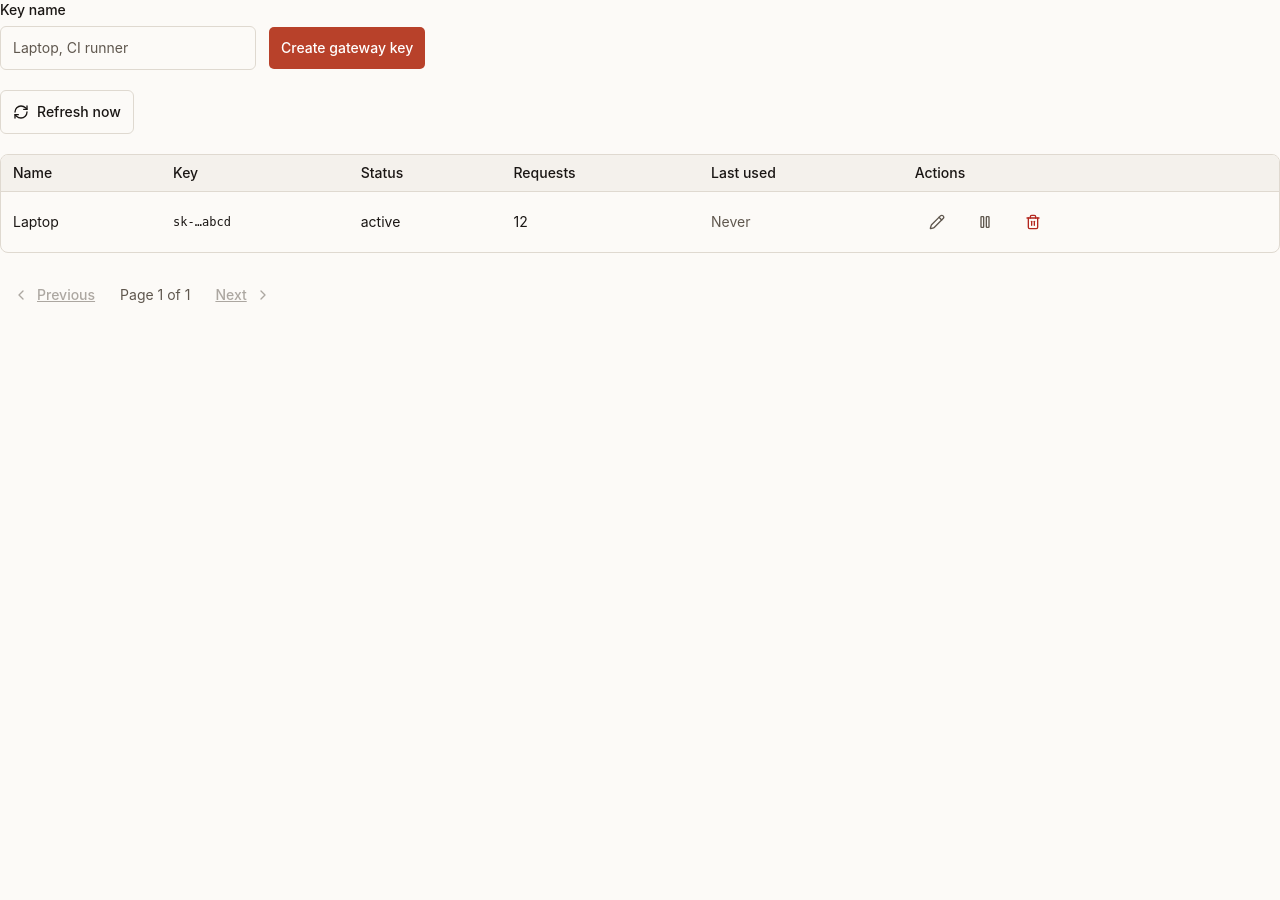
Endpoint & Key control states › gives the dialog commit a label pair rather than a raw white
Step 1. Click the button named "Delete" → {"x": 1033, "y": 222}, box [1011,200,1055,244]
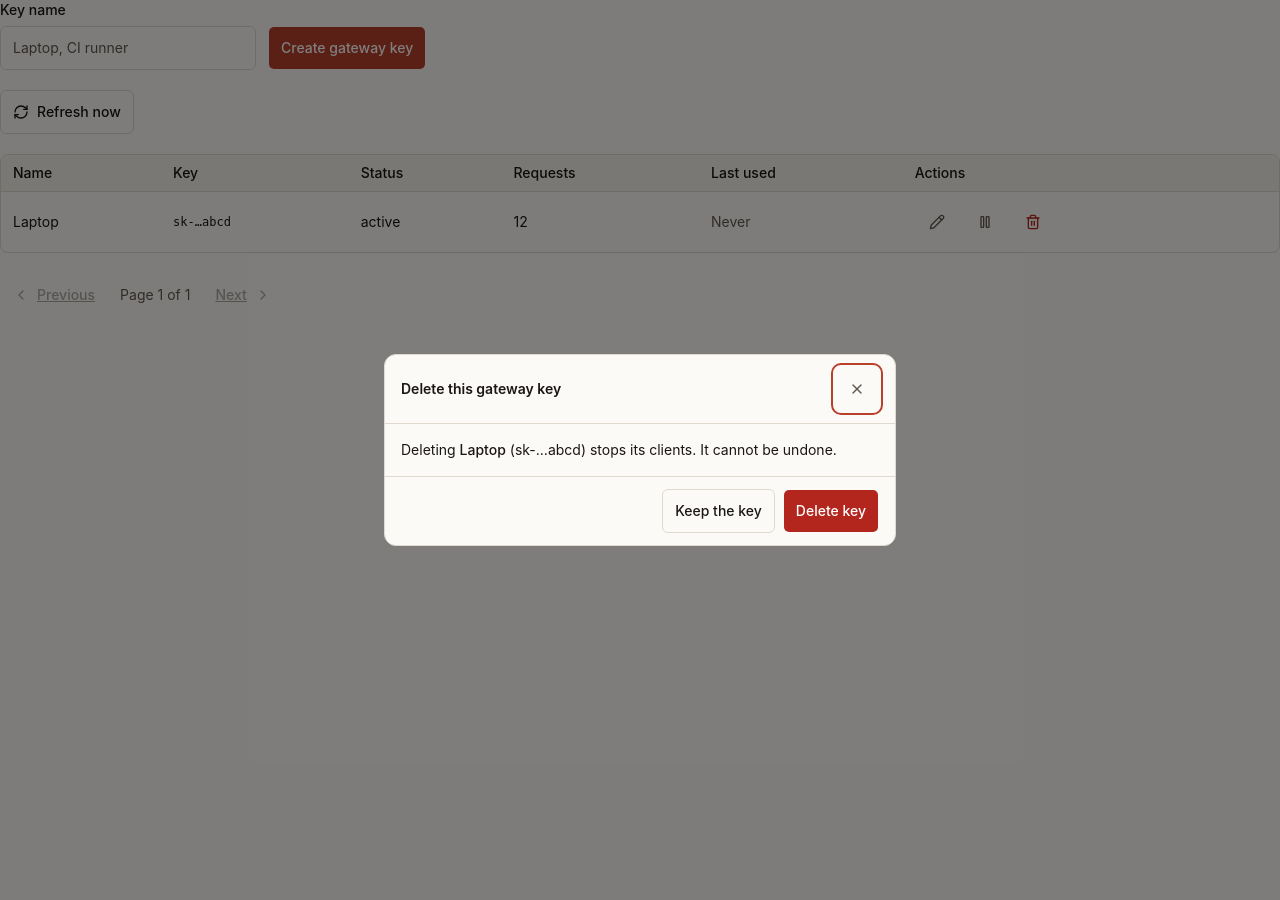
Now the button "Delete key" is shown, box [783,489,879,533]
